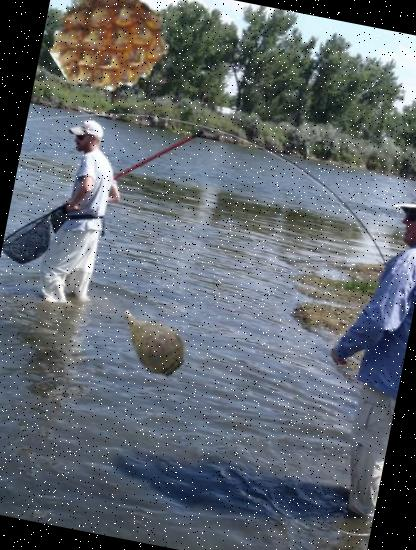Beetroot: (106, 294, 199, 388)
Pineapple: (41, 0, 175, 106)
